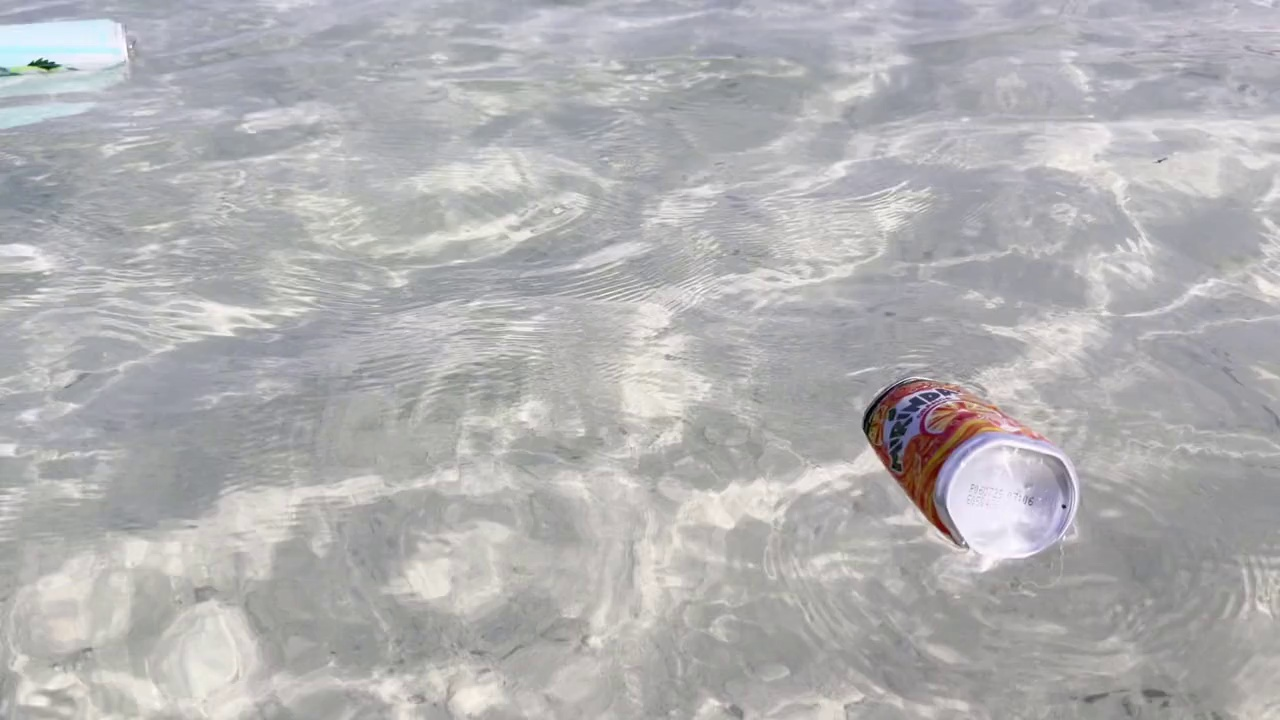debris: (863, 372, 1086, 569), (0, 9, 145, 76)
